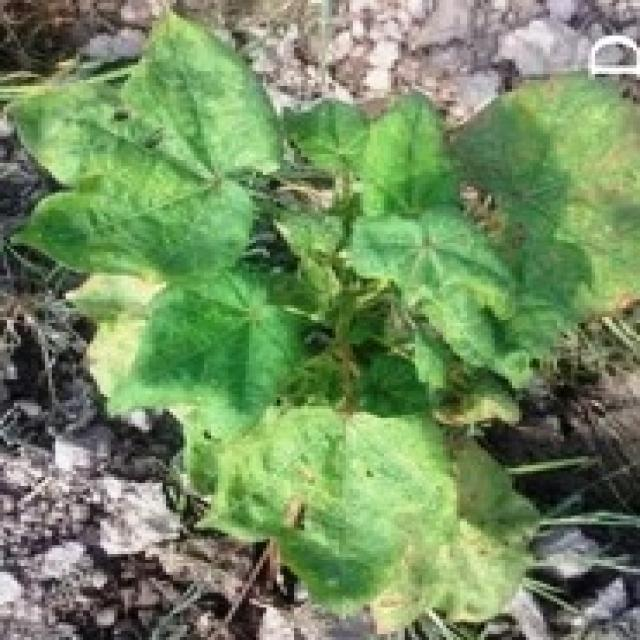Leaf Curl Virus: (168, 89, 526, 413)
